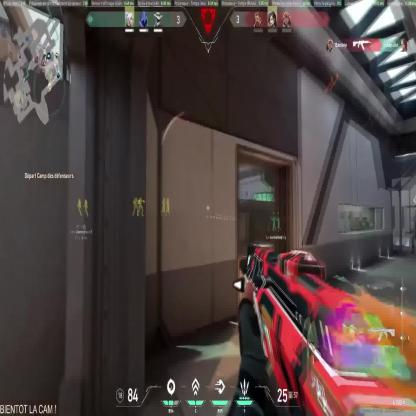enemy: (138, 197, 145, 215), (132, 197, 138, 216), (77, 198, 82, 216), (162, 196, 166, 215), (84, 198, 88, 216), (166, 197, 170, 215)
enemy_head: (84, 198, 87, 203), (134, 197, 137, 202), (162, 197, 165, 202), (166, 198, 169, 202), (78, 198, 80, 202), (140, 197, 142, 201)
